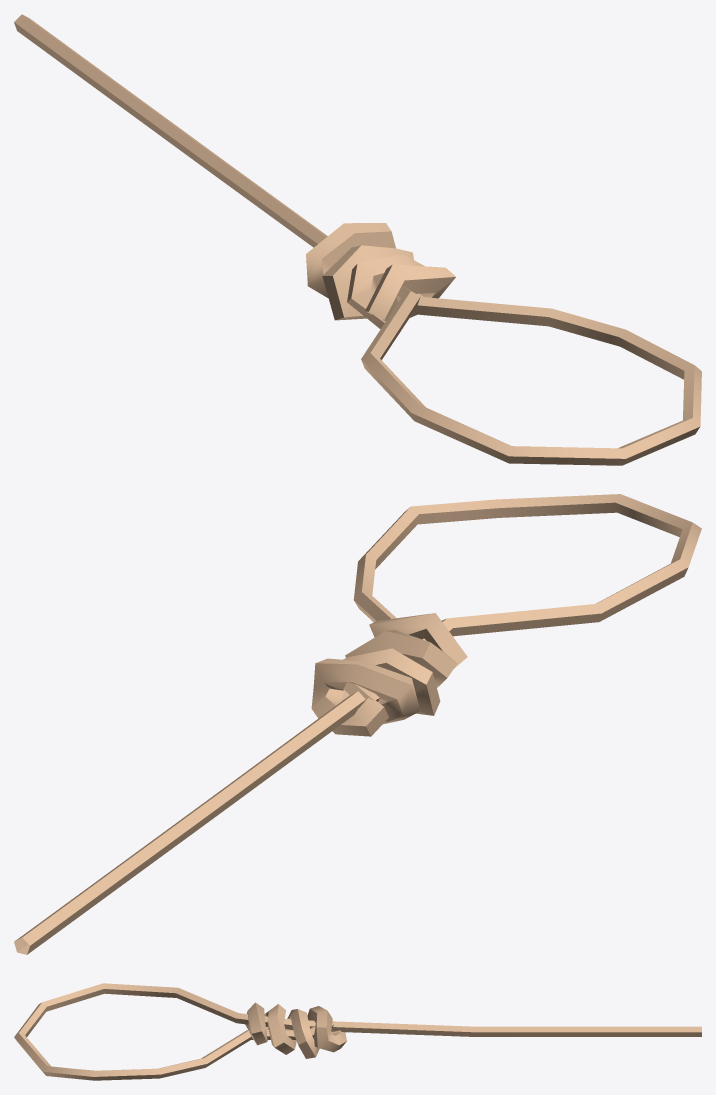
Rendered from Rope_Noose.fbx.
3 renders of one model, top to bottom at view 1: azimuth 30°, elevation 25°; view 2: azimuth 150°, elevation 25°; view 3: azimuth 270°, elevation 25°, orthographic. The views are drawn at different scales.
Parts seen in each view (by area): view 1: sweep3, sweep4; view 2: sweep3, sweep4; view 3: sweep3, sweep4.
Boxes of the visible parts, x1,y1,x2,y2 form: sweep3: [14, 14, 701, 465]; sweep4: [306, 223, 455, 328]; sweep3: [14, 494, 701, 954]; sweep4: [311, 613, 467, 736]; sweep3: [14, 983, 701, 1080]; sweep4: [245, 1002, 346, 1058].
Size of the model in its own units: 9.39 by 2.48 by 34.18.
1 material, 1 textured.
